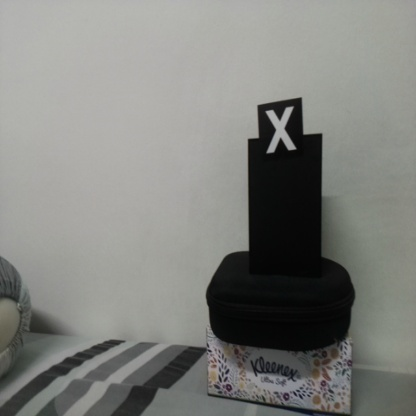id_13: (258, 103, 304, 159)
